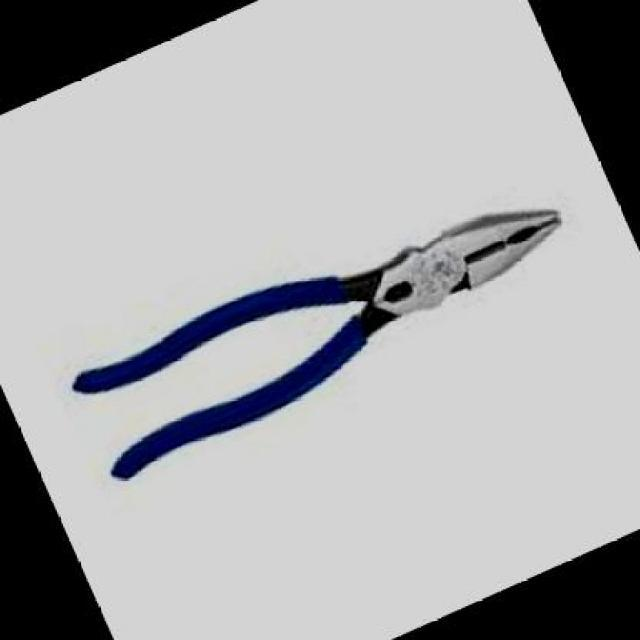pliers: (30, 109, 612, 508)
